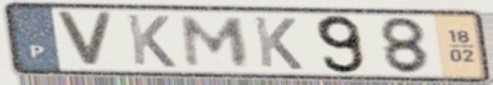8: (377, 15, 433, 76)
9: (312, 13, 369, 76)
K: (250, 14, 306, 72), (123, 12, 179, 70)
M: (180, 14, 252, 69)
V: (51, 9, 116, 70)
